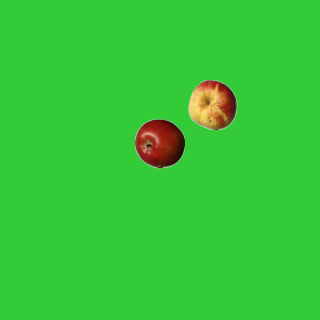Apple Braeburn: (134, 118, 184, 168)
Apple Red Yellow 1: (187, 79, 237, 129)
